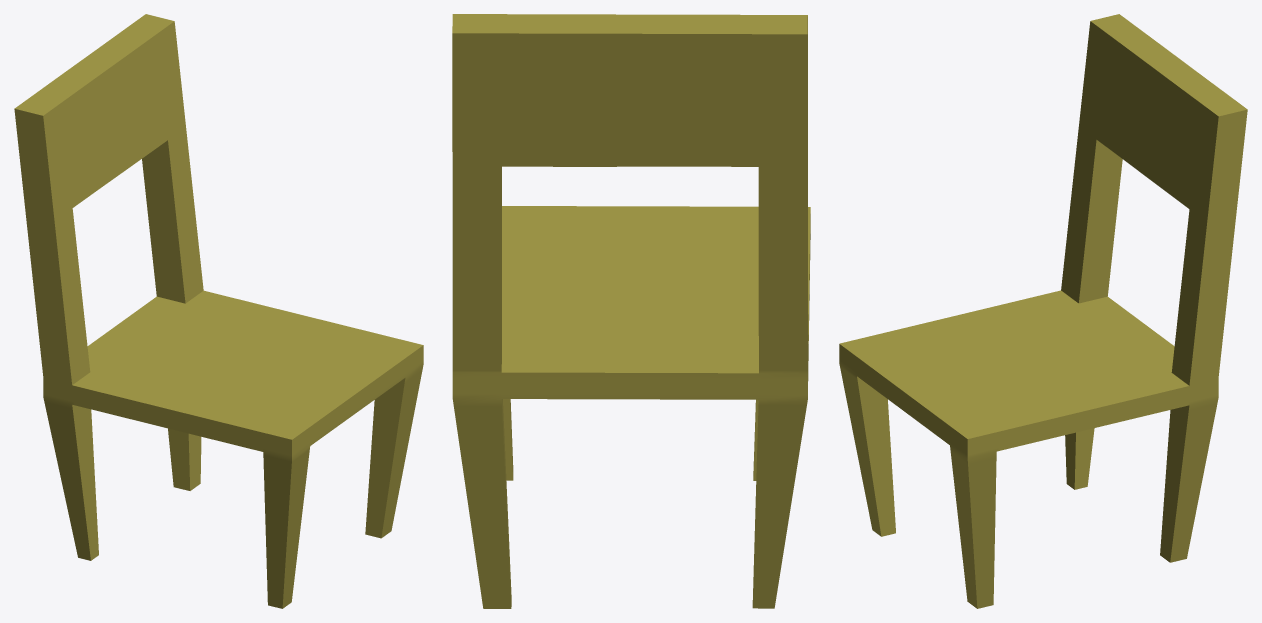
Rendered from Chair-Backstage.fbx.
The picture shows the model from 3 angles, left to right: view 1: azimuth 30°, elevation 25°; view 2: azimuth 150°, elevation 25°; view 3: azimuth 270°, elevation 25°; orthographic projection. The views are drawn at different scales.
Parts seen in each view (by area): view 1: pCube27; view 2: pCube27; view 3: pCube27.
Part boxes in pixels (x1,y1,x2,y2): pCube27: (14,14,423,608); pCube27: (452,14,810,608); pCube27: (839,14,1247,608).
Size of the model in its own units: 1.92 by 2.45 by 2.03.
